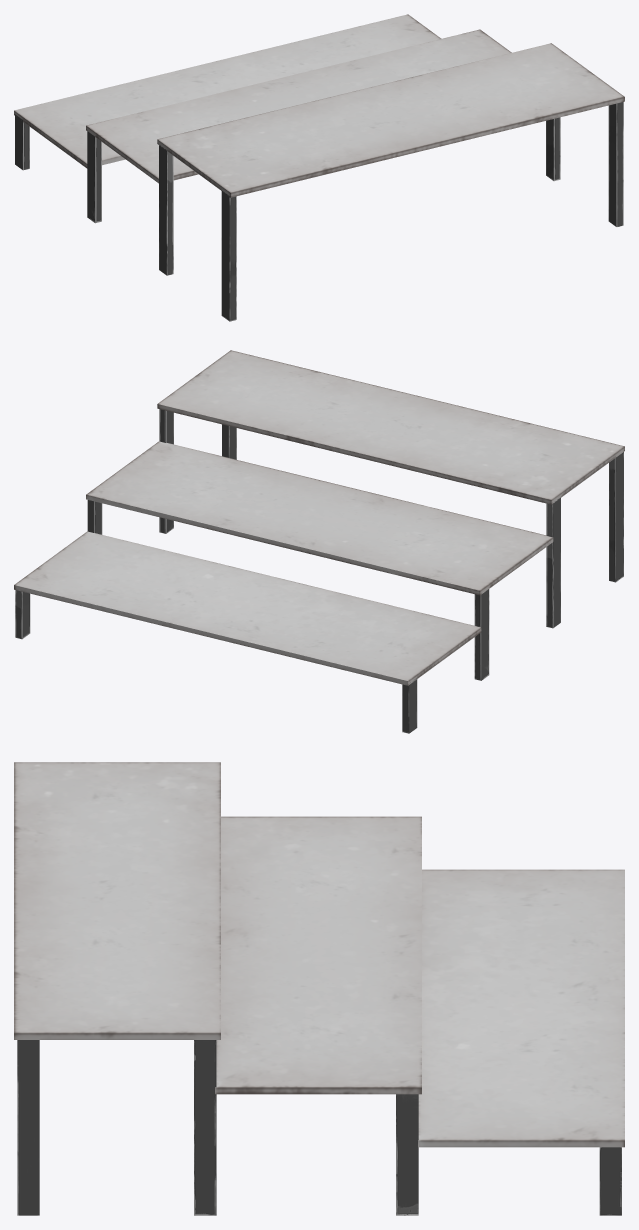
Rendered from Outdoor Bleachers.glb.
3 renders of one model, top to bottom at view 1: azimuth 30°, elevation 25°; view 2: azimuth 150°, elevation 25°; view 3: azimuth 270°, elevation 25°, orthographic. The views are drawn at different scales.
Visible parts, largest first — view 1: Seat3, Seat1, Seat2, Legs_L3, Legs_R3, Legs_L2, Legs_L1, Legs_R2, Legs_L; view 2: Seat3, Seat1, Seat2, Legs_L3, Legs_L2, Legs_L1, Legs_L, Legs_R, Legs_R2; view 3: Seat3, Seat1, Seat2, Legs_R3, Legs_R2, Legs_R1, Legs_R.
Part boxes in pixels (x1,y1,x2,y2): Seat3: (157, 43, 624, 197); Seat1: (14, 14, 441, 168); Seat2: (86, 29, 511, 183); Legs_L3: (221, 190, 236, 321); Legs_R3: (608, 102, 623, 226); Legs_L2: (159, 145, 173, 275); Legs_L1: (87, 131, 101, 223); Legs_R2: (546, 117, 560, 181); Legs_L: (15, 114, 29, 170); Seat3: (157, 350, 624, 504); Seat1: (14, 531, 481, 685); Seat2: (86, 441, 553, 595); Legs_L3: (609, 452, 623, 582); Legs_L2: (546, 497, 560, 628); Legs_L1: (474, 589, 489, 680); Legs_L: (402, 678, 417, 733); Legs_R: (15, 590, 30, 639); Legs_R2: (159, 409, 173, 533); Seat3: (14, 762, 220, 1039); Seat1: (418, 869, 624, 1147); Seat2: (215, 816, 421, 1094); Legs_R3: (17, 1040, 39, 1215); Legs_R2: (194, 1040, 216, 1215); Legs_R1: (396, 1094, 418, 1215); Legs_R: (599, 1147, 621, 1215).
Size of the model in its own units: 6.24 by 1.96 by 5.94.
Materials: 2 (2 with a texture image).
